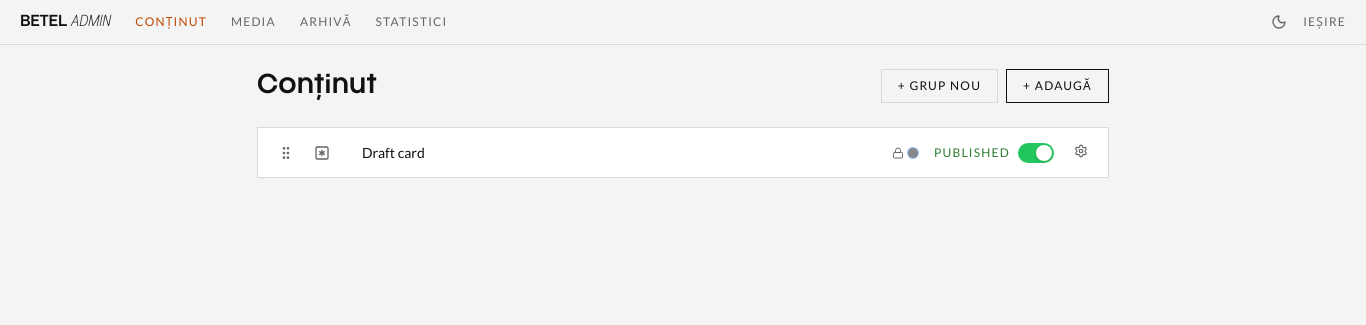
Scenario: Admin — soft delete › published item shows Ascunde instead of Arhivează
Click the button with test id "item-menu-trigger-item-1": (1081, 151) left=1070, top=140, right=1092, bottom=162
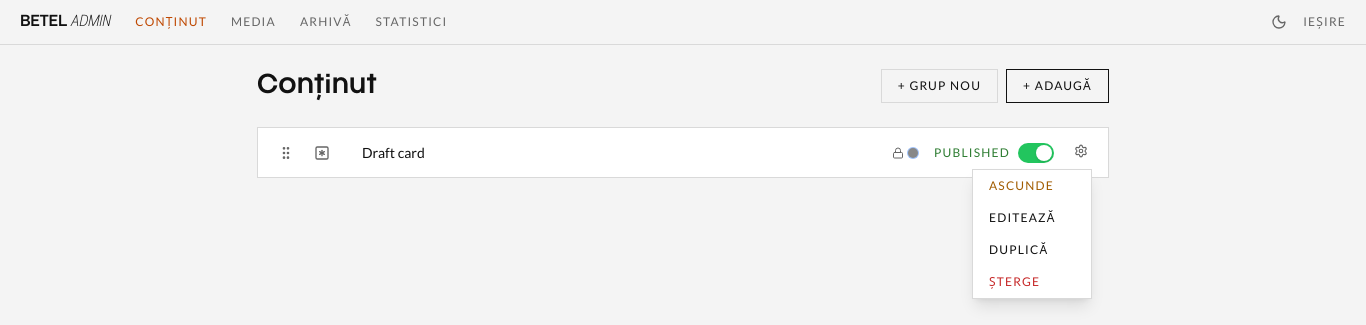
expect the button with test id "item-menu-hide-item-1" is shown: met, box left=973, top=170, right=1091, bottom=202
